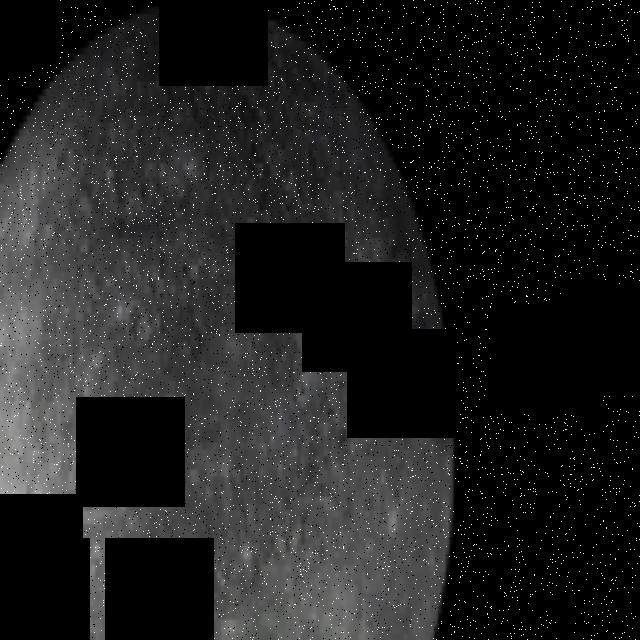Mercury: (0, 7, 453, 640)
